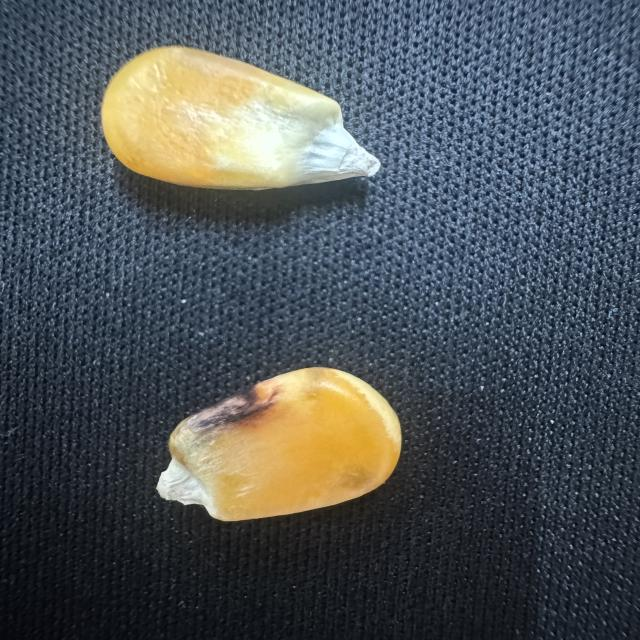Bad-Seed: (151, 363, 408, 527)
Good-Seed: (96, 41, 384, 194)
